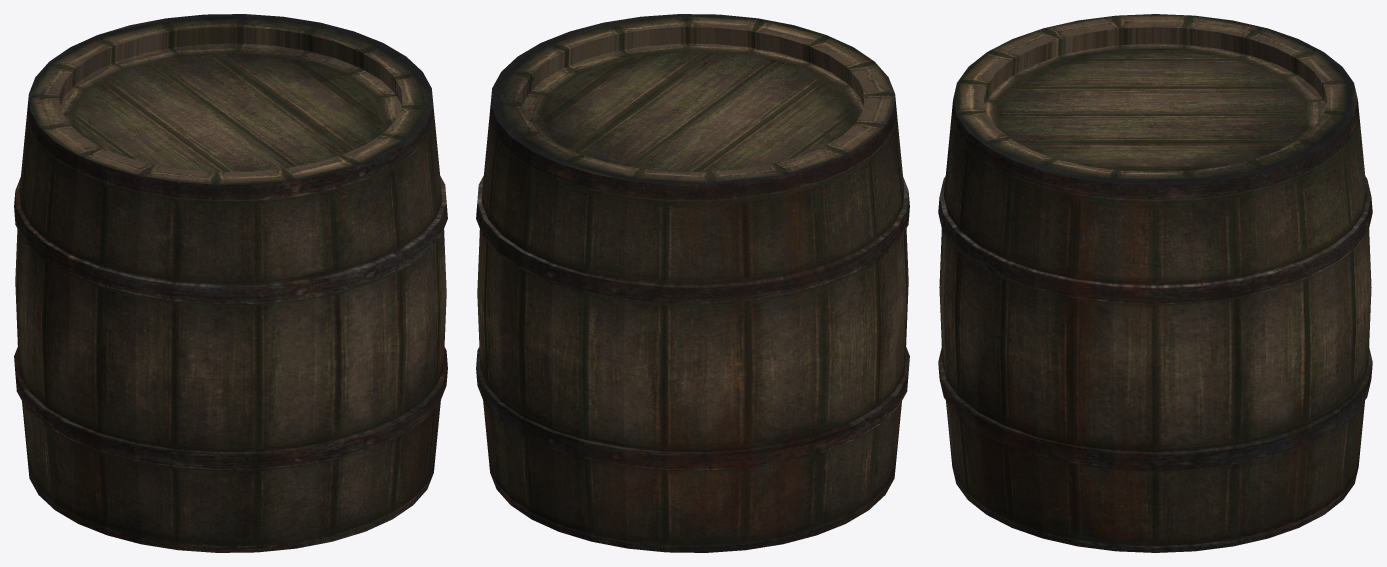
File: barril.fbx
The picture shows the model from 3 angles, left to right: view 1: azimuth 30°, elevation 25°; view 2: azimuth 150°, elevation 25°; view 3: azimuth 270°, elevation 25°; orthographic projection.
Parts seen in each view (by area): view 1: Cylinder; view 2: Cylinder; view 3: Cylinder.
Part boxes in pixels (<box>): Cylinder: <box>14,14,447,552</box>; Cylinder: <box>476,14,909,552</box>; Cylinder: <box>938,14,1372,552</box>.
Bounding box in the file's own units: 219 × 204 × 219.
Materials: 1 (1 with a texture image).
